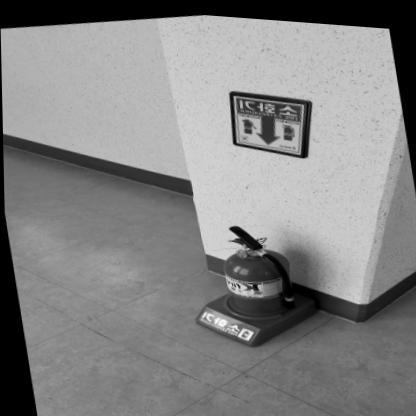FE: (179, 208, 318, 352)
